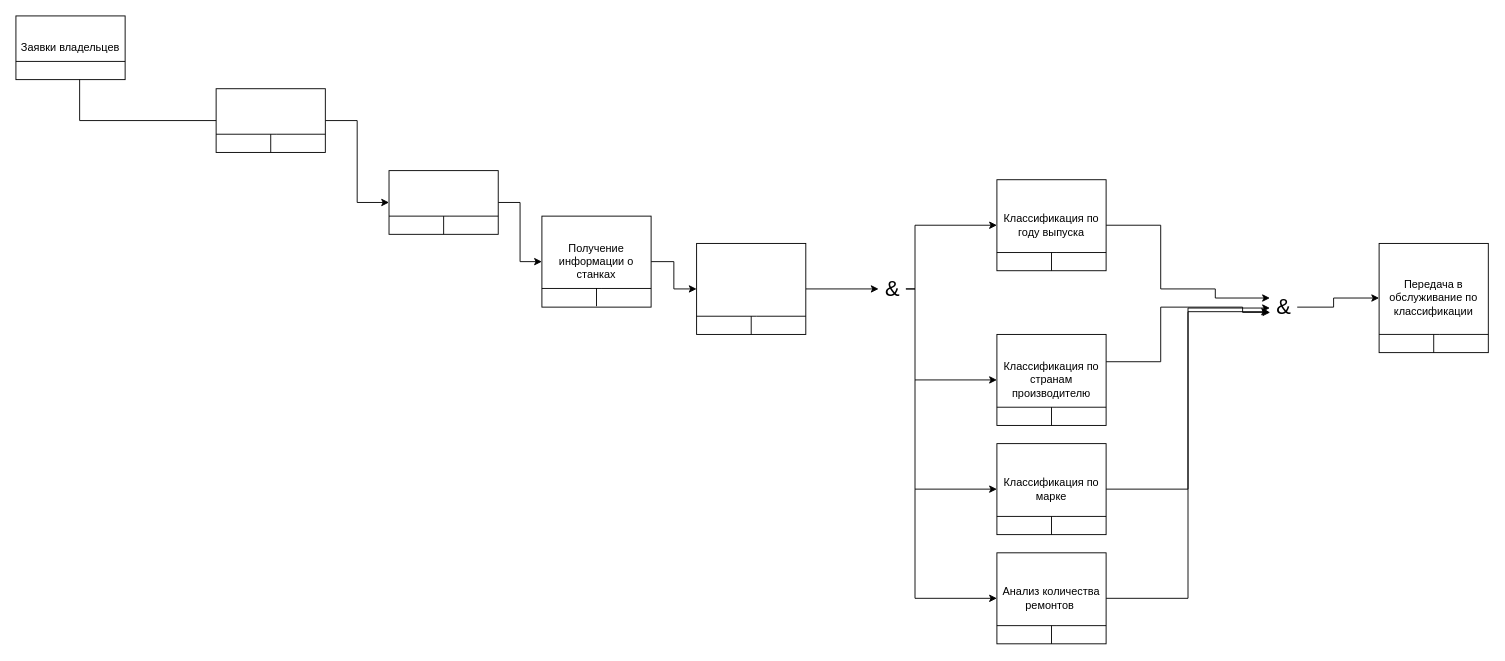
Some shapes in this 1505 by 661 pixel diagram are drawn without their labels. Here are the shapes that lost their labels. From the top down, the box of each, then its label:
(215, 88, 325, 152): Прием заявок
(388, 170, 498, 234): Обработка заявок
(696, 243, 806, 334): Анализ станков
